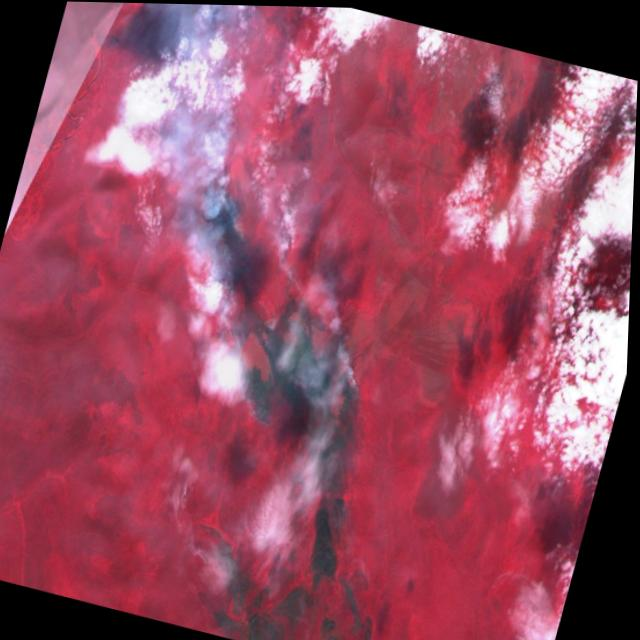fire: (154, 183, 429, 467)
